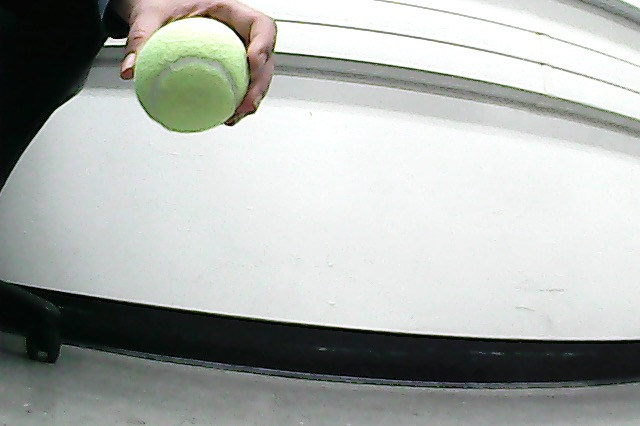ball: (131, 16, 257, 136)
